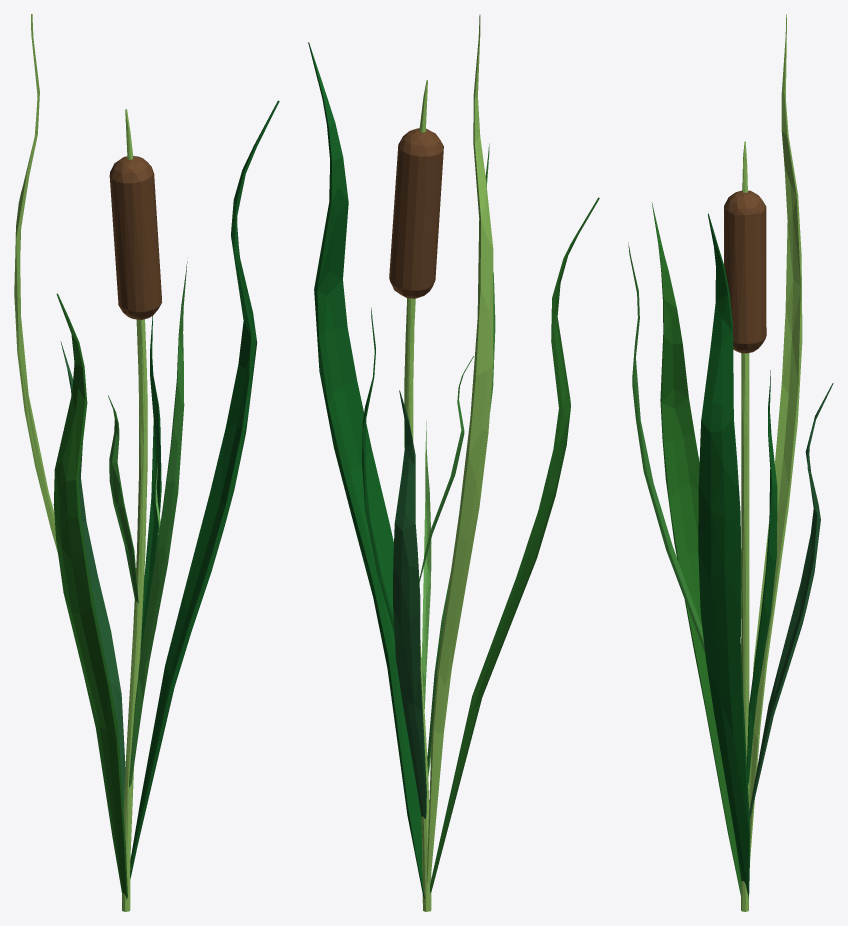
Rendered from reeds_finalFBX.fbx.
The picture shows the model from 3 angles, left to right: view 1: azimuth 30°, elevation 25°; view 2: azimuth 150°, elevation 25°; view 3: azimuth 270°, elevation 25°; orthographic projection. The views are drawn at different scales.
Parts seen in each view (by area): view 1: Reed; view 2: Reed; view 3: Reed.
Boxes of the visible parts, x1=… form: Reed: x1=14, y1=14, x2=279, y2=911; Reed: x1=308, y1=14, x2=599, y2=911; Reed: x1=628, y1=14, x2=833, y2=911.
Bounding box in the file's own units: 444 × 1509 × 326.
